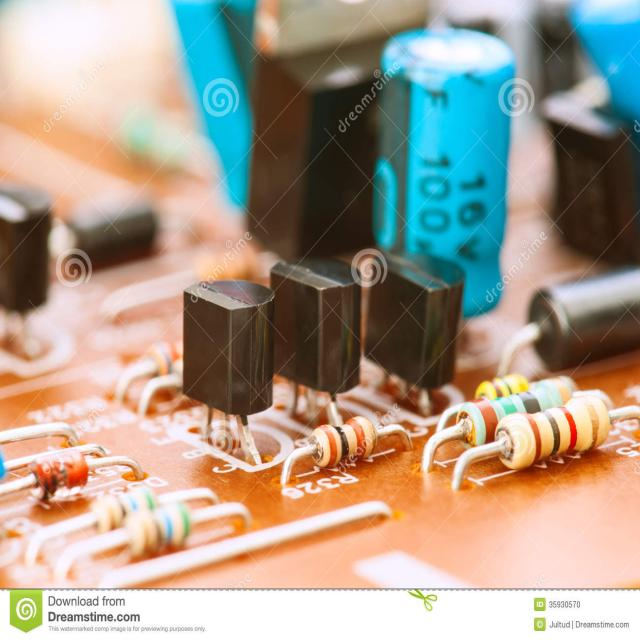Capacitor: (372, 29, 516, 317), (498, 268, 640, 376), (270, 259, 361, 425), (365, 253, 464, 390), (182, 281, 274, 428), (0, 185, 51, 357)
Resistor: (451, 395, 640, 491), (100, 233, 279, 318), (421, 376, 576, 472), (56, 502, 251, 573), (30, 485, 220, 548), (280, 417, 412, 485), (29, 449, 144, 500), (115, 343, 180, 402), (472, 373, 530, 402)
